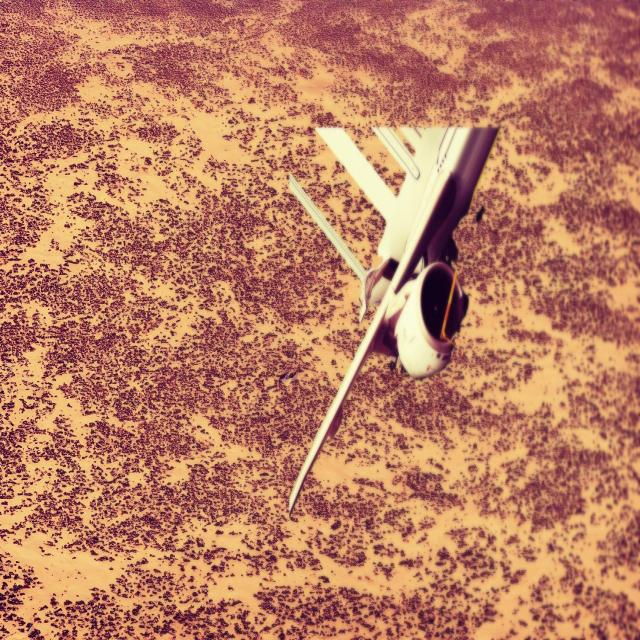airplane: (286, 120, 500, 516)
